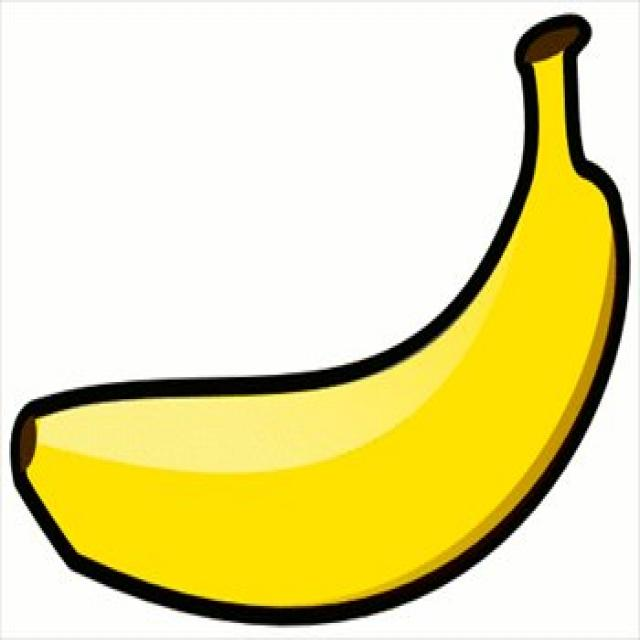banana: (14, 22, 636, 635)
